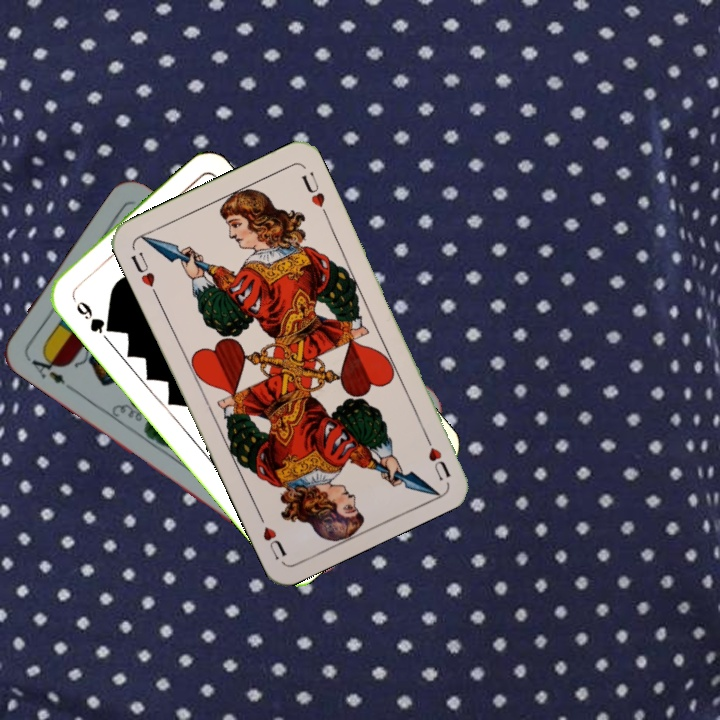EA: (23, 348, 68, 388)
G9: (67, 291, 116, 337)
HU: (419, 428, 453, 484), (127, 247, 161, 300)
